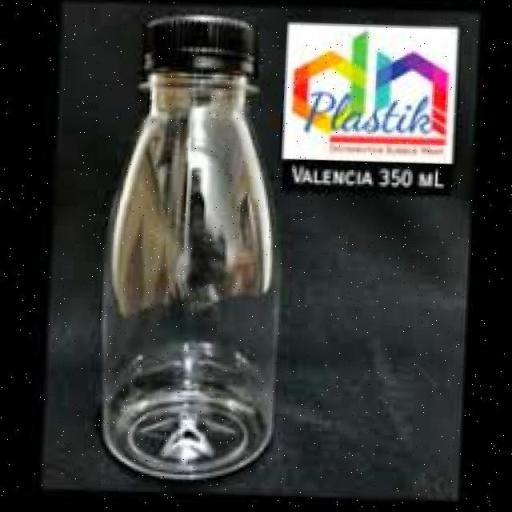plastic: (88, 6, 310, 488)
